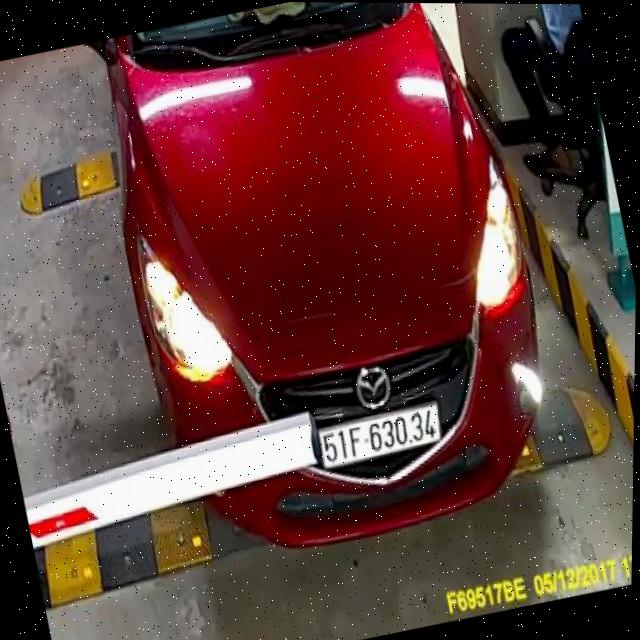car: (61, 1, 598, 587)
plate: (311, 397, 452, 472)
